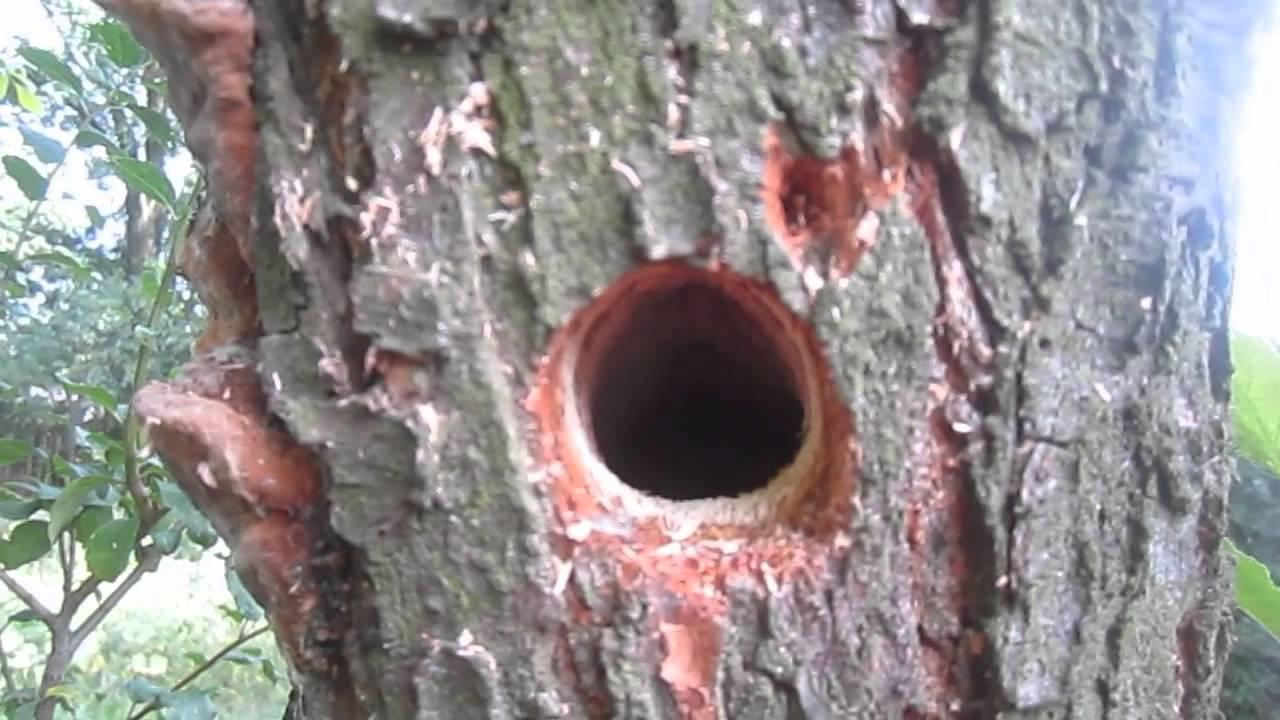hollow: (573, 270, 804, 499)
